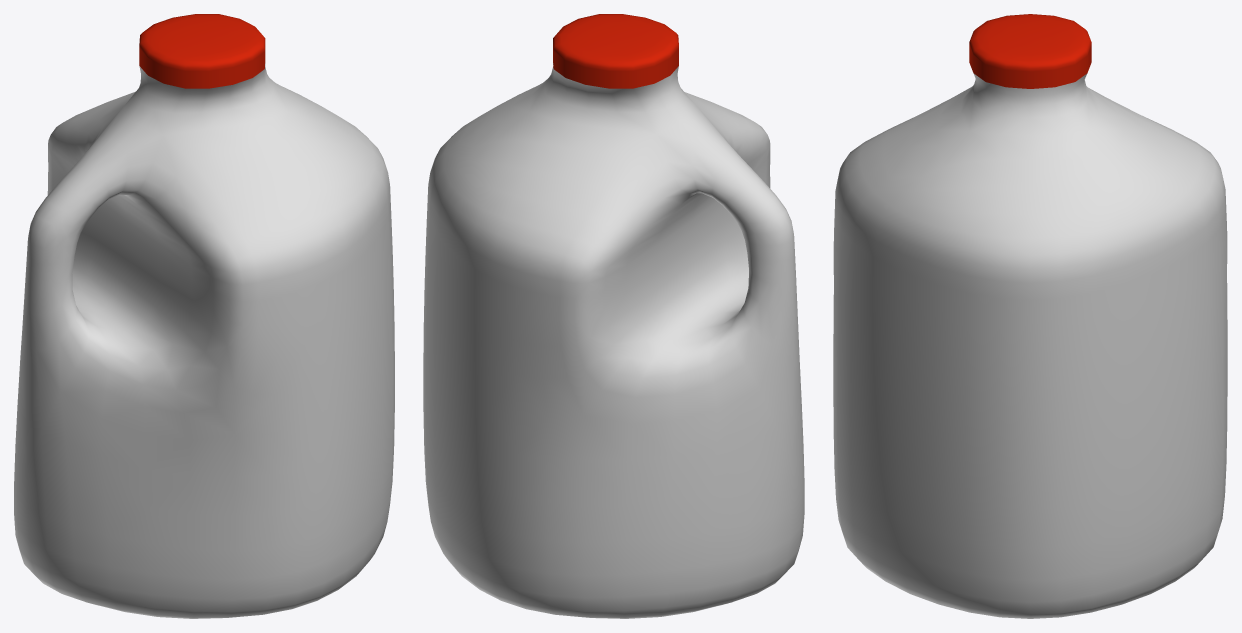
Rendered from milk_gallon.glb.
The picture shows the model from 3 angles, left to right: view 1: azimuth 30°, elevation 25°; view 2: azimuth 150°, elevation 25°; view 3: azimuth 270°, elevation 25°; orthographic projection.
Visible parts, largest first — view 1: Cube.001; view 2: Cube.001; view 3: Cube.001.
Part boxes in pixels (x1,y1,x2,y2): Cube.001: (14,14,394,618); Cube.001: (423,14,804,618); Cube.001: (833,14,1227,618).
Bounding box in the file's own units: 2.27 × 3.2 × 2.21.
